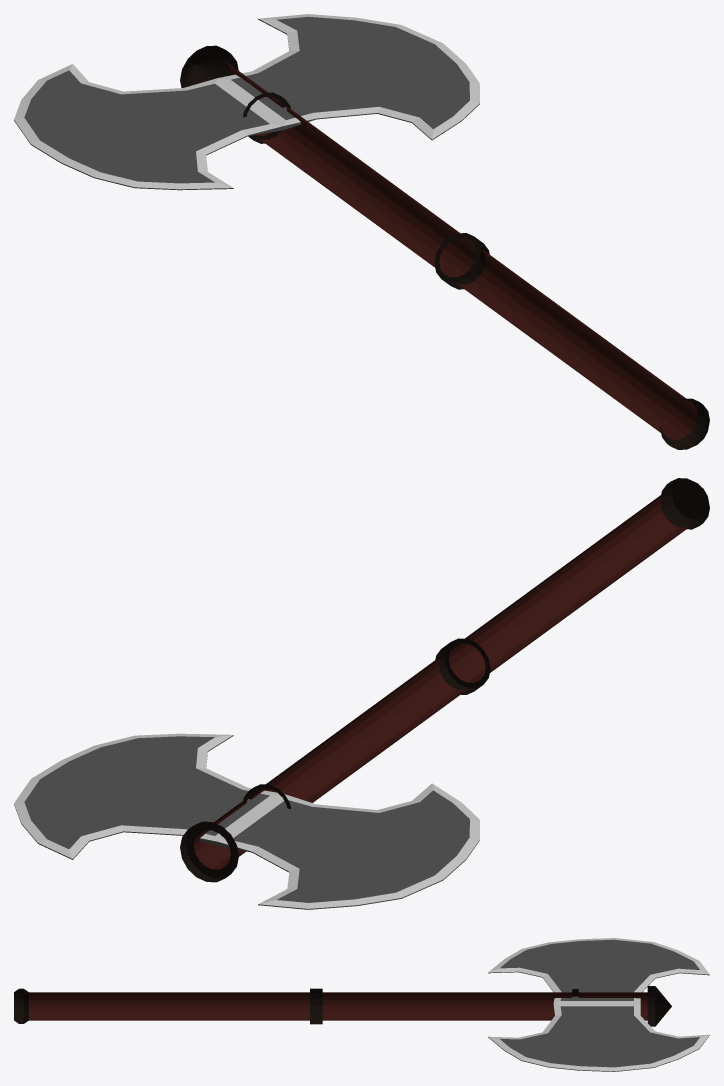
File: axe.obj
The picture shows the model from 3 angles, top to bottom: view 1: azimuth 30°, elevation 25°; view 2: azimuth 150°, elevation 25°; view 3: azimuth 270°, elevation 25°; orthographic projection. The views are drawn at different scales.
Visible parts, largest first — view 1: Circle; view 2: Circle; view 3: Circle.
Boxes of the visible parts, left/top/right/bottom form: Circle: left=14, top=14, right=709, bottom=449; Circle: left=14, top=478, right=709, bottom=909; Circle: left=14, top=938, right=709, bottom=1071.
Size of the model in its own units: 3.14 by 0.4058 by 6.93.
